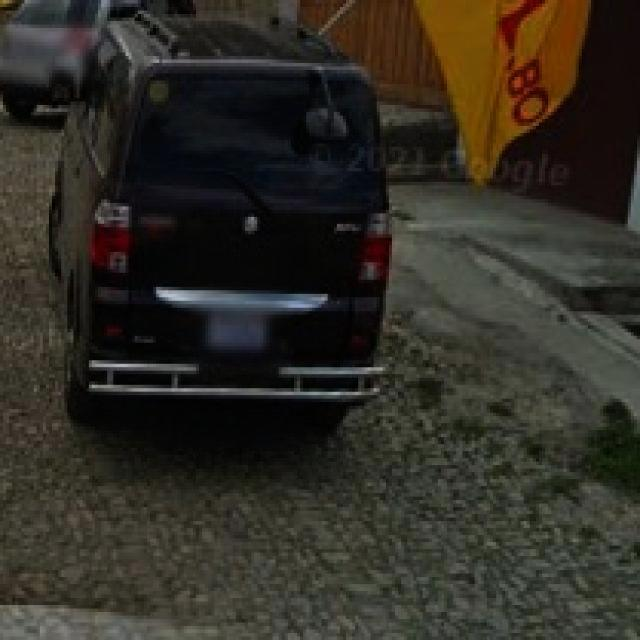car: (49, 9, 387, 437)
